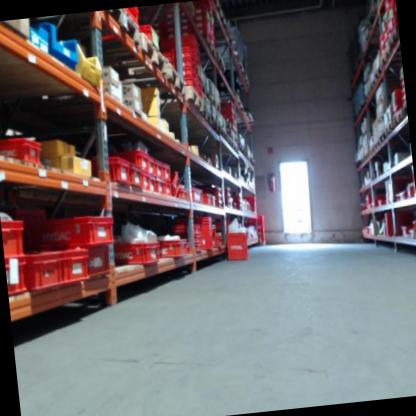pallet: (42, 7, 143, 63), (93, 29, 172, 91), (149, 58, 190, 107), (172, 80, 206, 121), (192, 104, 215, 132), (205, 89, 222, 114), (379, 48, 394, 74), (387, 28, 400, 57), (391, 107, 405, 131), (196, 84, 212, 104), (382, 120, 394, 140), (213, 121, 222, 138), (402, 104, 408, 120)
small_load_carrier: (26, 210, 117, 250), (0, 131, 45, 170), (113, 238, 167, 269), (24, 251, 62, 292), (89, 152, 130, 188), (1, 213, 30, 255), (5, 253, 31, 295), (59, 250, 91, 284), (156, 236, 191, 263), (85, 244, 112, 278), (224, 230, 249, 262), (194, 213, 213, 252), (121, 150, 148, 174), (177, 185, 205, 206), (168, 169, 185, 198), (170, 221, 201, 234), (127, 164, 141, 192), (172, 45, 194, 61), (174, 64, 193, 78), (180, 231, 202, 243), (182, 241, 202, 254), (152, 155, 163, 178), (138, 172, 150, 193), (155, 176, 165, 198), (144, 176, 156, 192), (161, 160, 170, 181), (174, 58, 194, 66), (147, 153, 154, 175), (161, 183, 172, 197), (201, 191, 211, 206), (182, 76, 194, 88), (212, 226, 218, 246), (218, 237, 222, 247)
